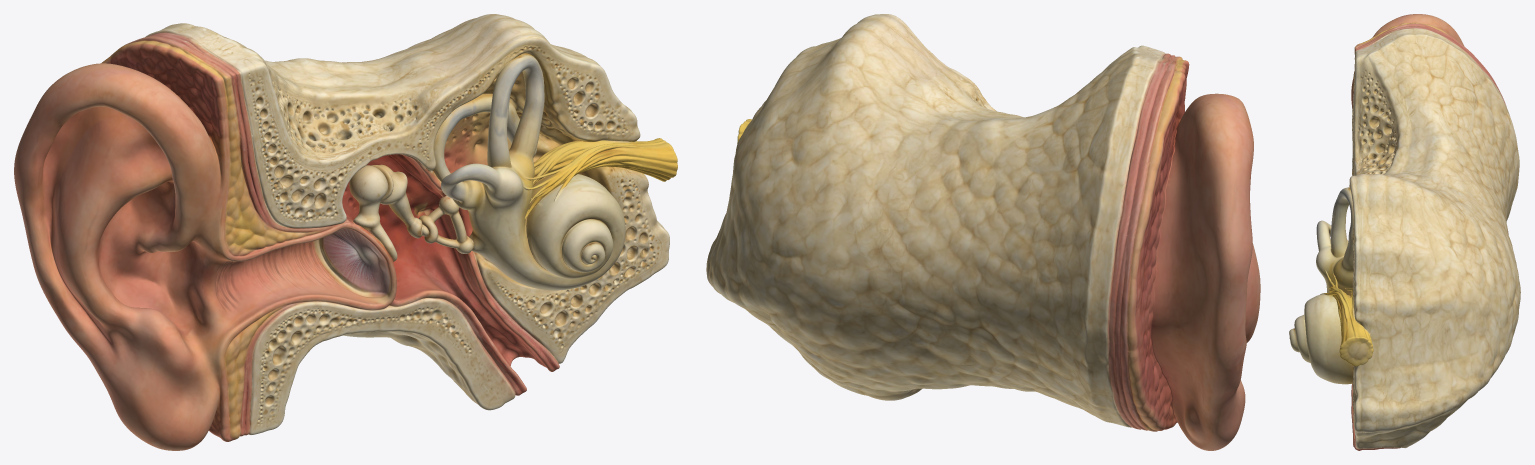
Rendered from human-ear-anatomy.glb.
3 views of the same model, side by side, from view 1: azimuth 30°, elevation 25°; view 2: azimuth 150°, elevation 25°; view 3: azimuth 270°, elevation 25° (orthographic). The views are drawn at different scales.
Visible parts, largest first — view 1: human-ear-anatomy; view 2: human-ear-anatomy; view 3: human-ear-anatomy.
Part boxes in pixels (x1,y1,x2,y2): human-ear-anatomy: [14, 14, 677, 450]; human-ear-anatomy: [706, 14, 1260, 450]; human-ear-anatomy: [1289, 14, 1520, 450].
Bounding box in the file's own units: 0.12 × 0.0825 × 0.0548.
Materials: 1 (1 with a texture image).
